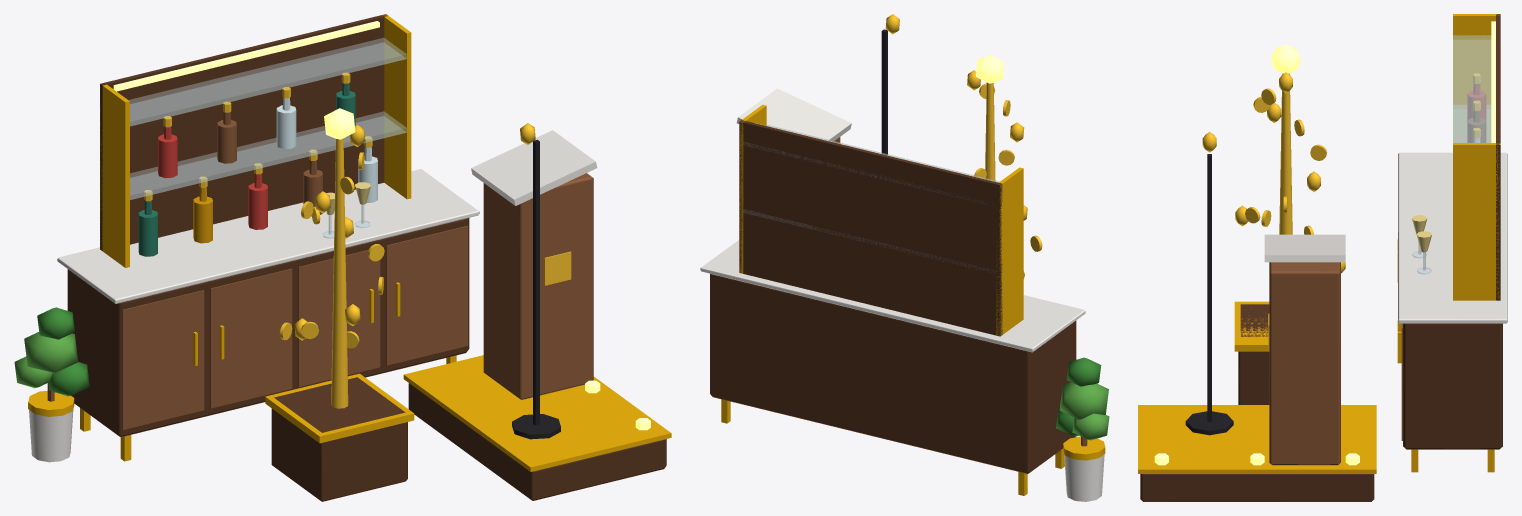
Rendered from station_special_3.glb.
The picture shows the model from 3 angles, left to right: view 1: azimuth 30°, elevation 25°; view 2: azimuth 150°, elevation 25°; view 3: azimuth 270°, elevation 25°; orthographic projection. The views are drawn at different scales.
Visible parts, largest first — view 1: station_special_3; view 2: station_special_3; view 3: station_special_3.
Boxes of the visible parts, box(x1,y1,x2,y2) form: station_special_3: box(14, 14, 671, 501); station_special_3: box(700, 14, 1109, 501); station_special_3: box(1138, 14, 1507, 501).
Bounding box in the file's own units: 2.17 × 1.59 × 1.55.
